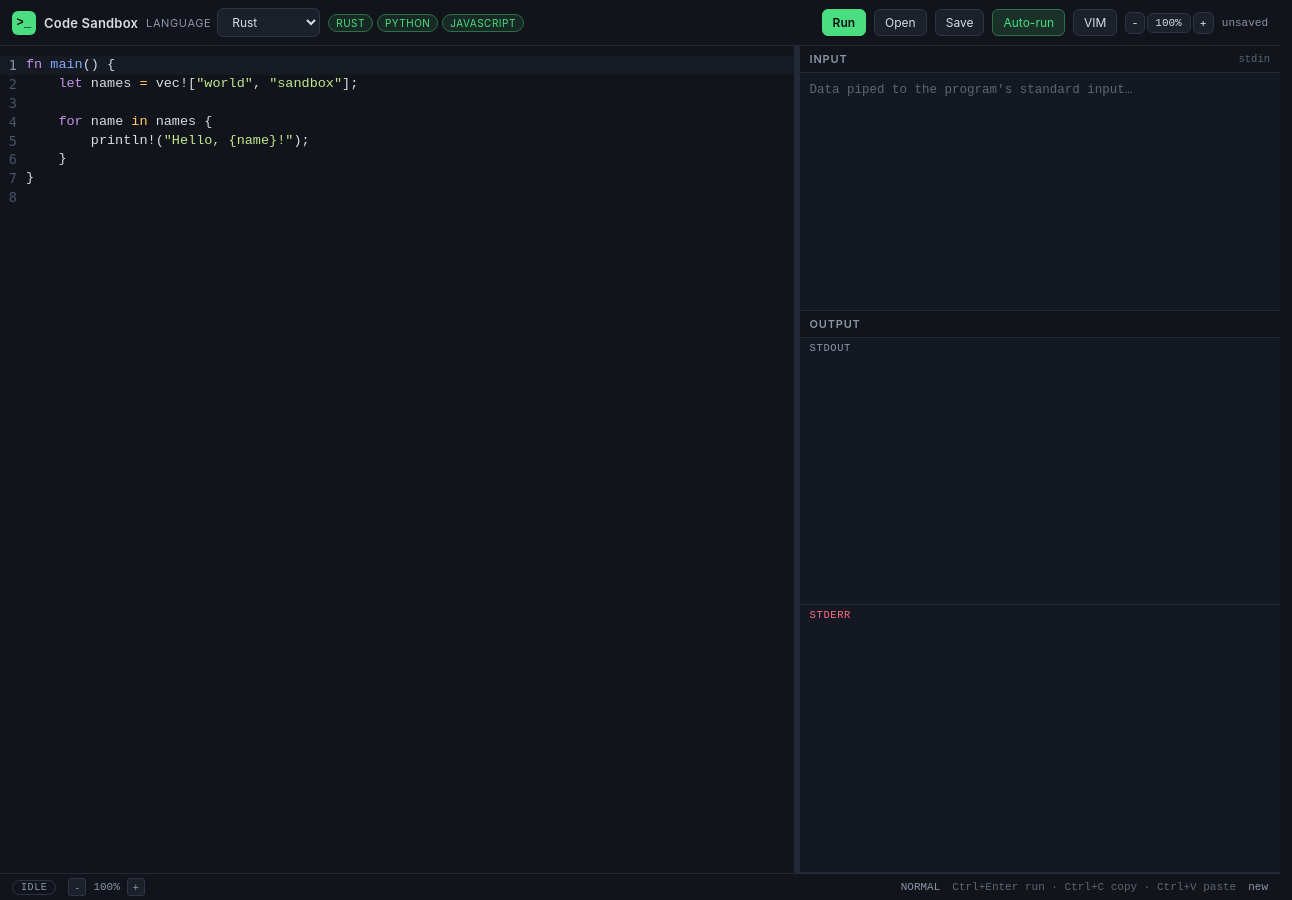
Test case: Code Sandbox › adjusts zoom via toolbar controls and keyboard shortcuts
Check: the button with test id "zoom-level" reads "100%", box [89, 881, 124, 893]
# Click zoom in button
Step 1. Click the button named "Zoom in" → (1203, 22), box [1192, 12, 1214, 34]
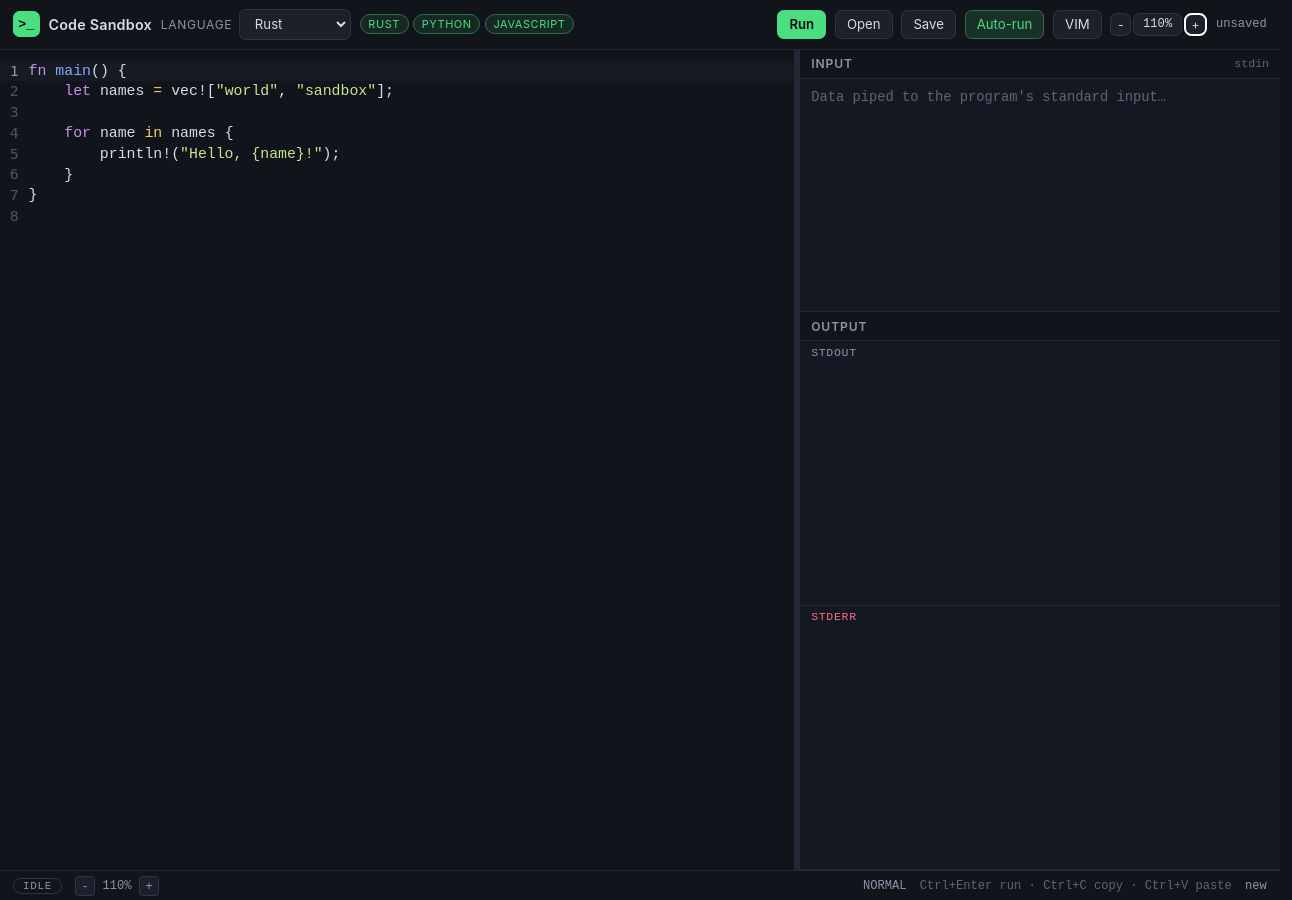
Check: the button with test id "zoom-level" reads "110%", box [98, 879, 136, 893]
# Keyboard shortcut zoom out (Ctrl+-)
Step 2. Type keys "{Control>}{-}{/Control}"
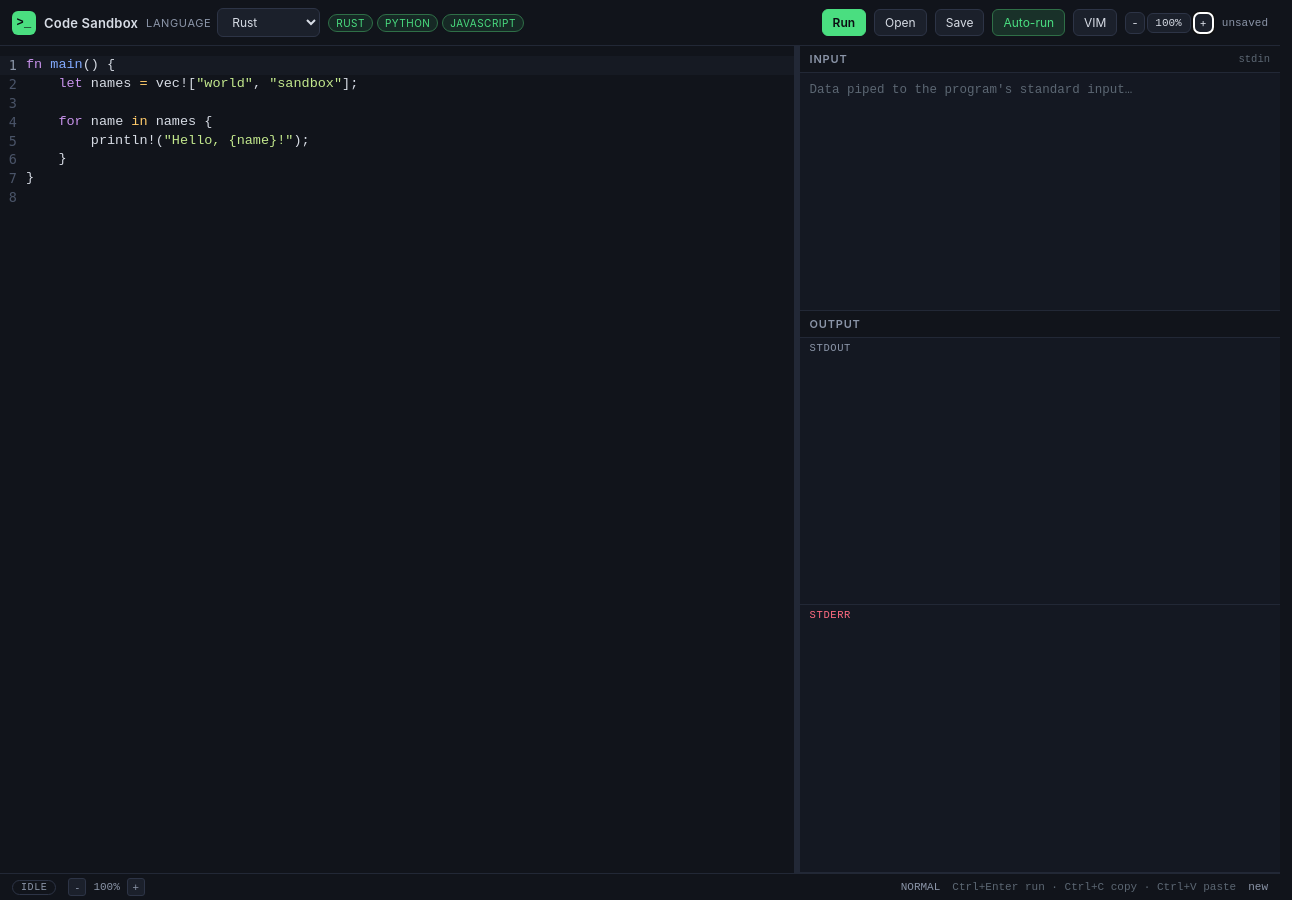
Check: the button with test id "zoom-level" reads "100%", box [89, 881, 124, 893]
Step 3. Type keys "{Control>}{=}{/Control}"
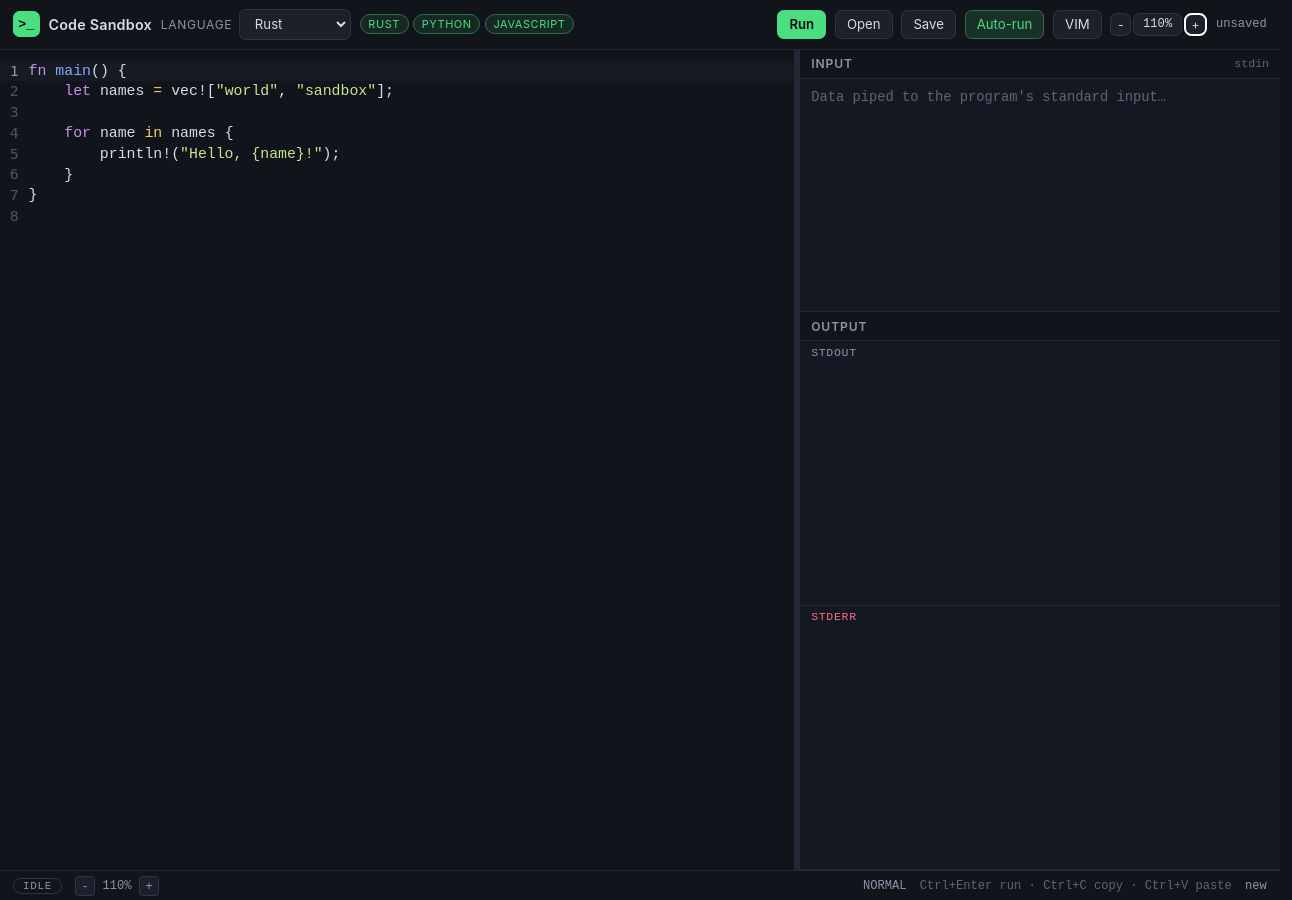
Check: the button with test id "zoom-level" reads "110%"
# Reset zoom via click
Step 4. Click the button with test id "zoom-level" → (117, 886), box [98, 879, 136, 893]
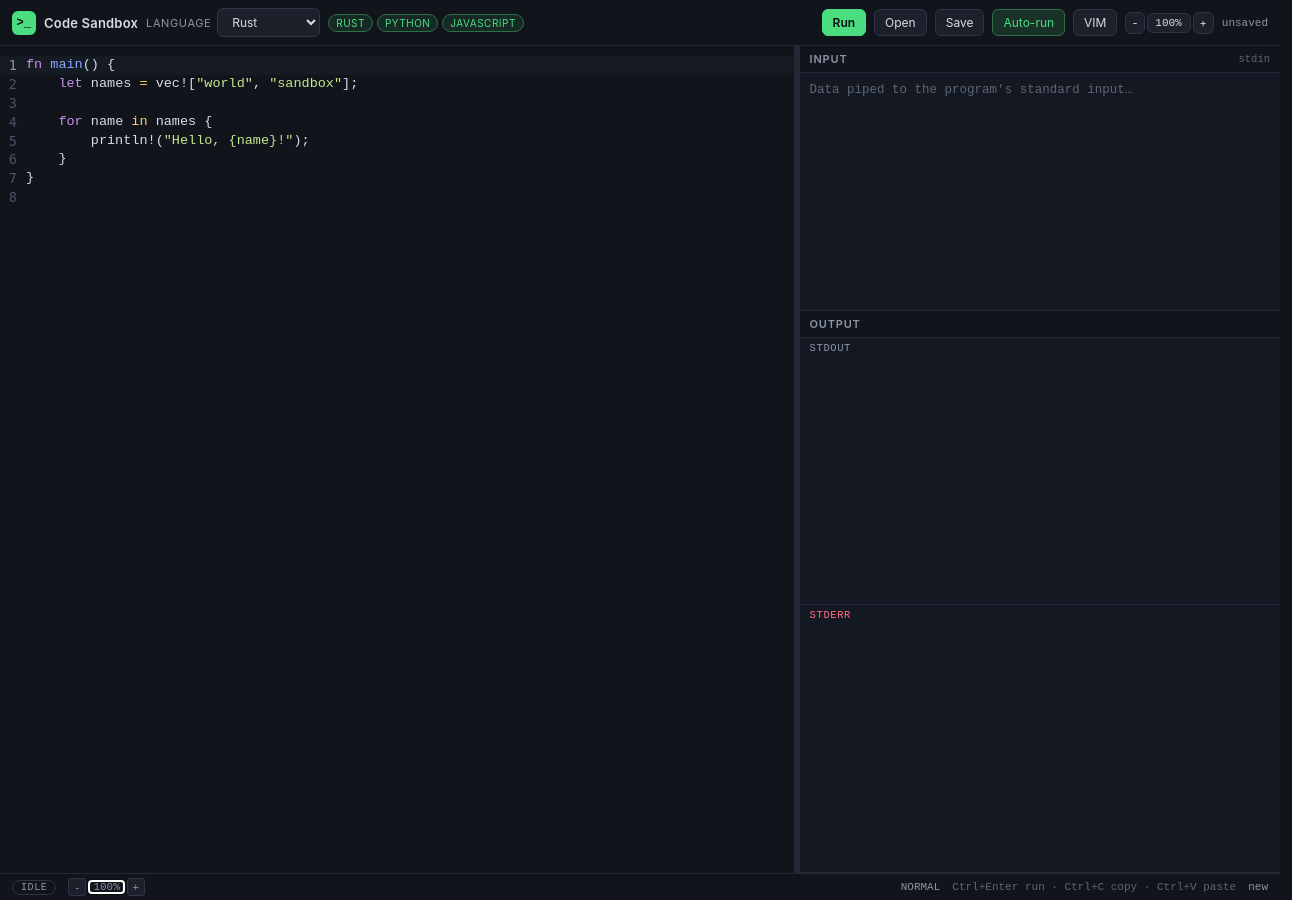
Check: the button with test id "zoom-level" reads "100%", box [89, 881, 124, 893]
# Keyboard shortcut reset (Ctrl+0)
Step 5. Type keys "{Control>}{=}{/Control}"
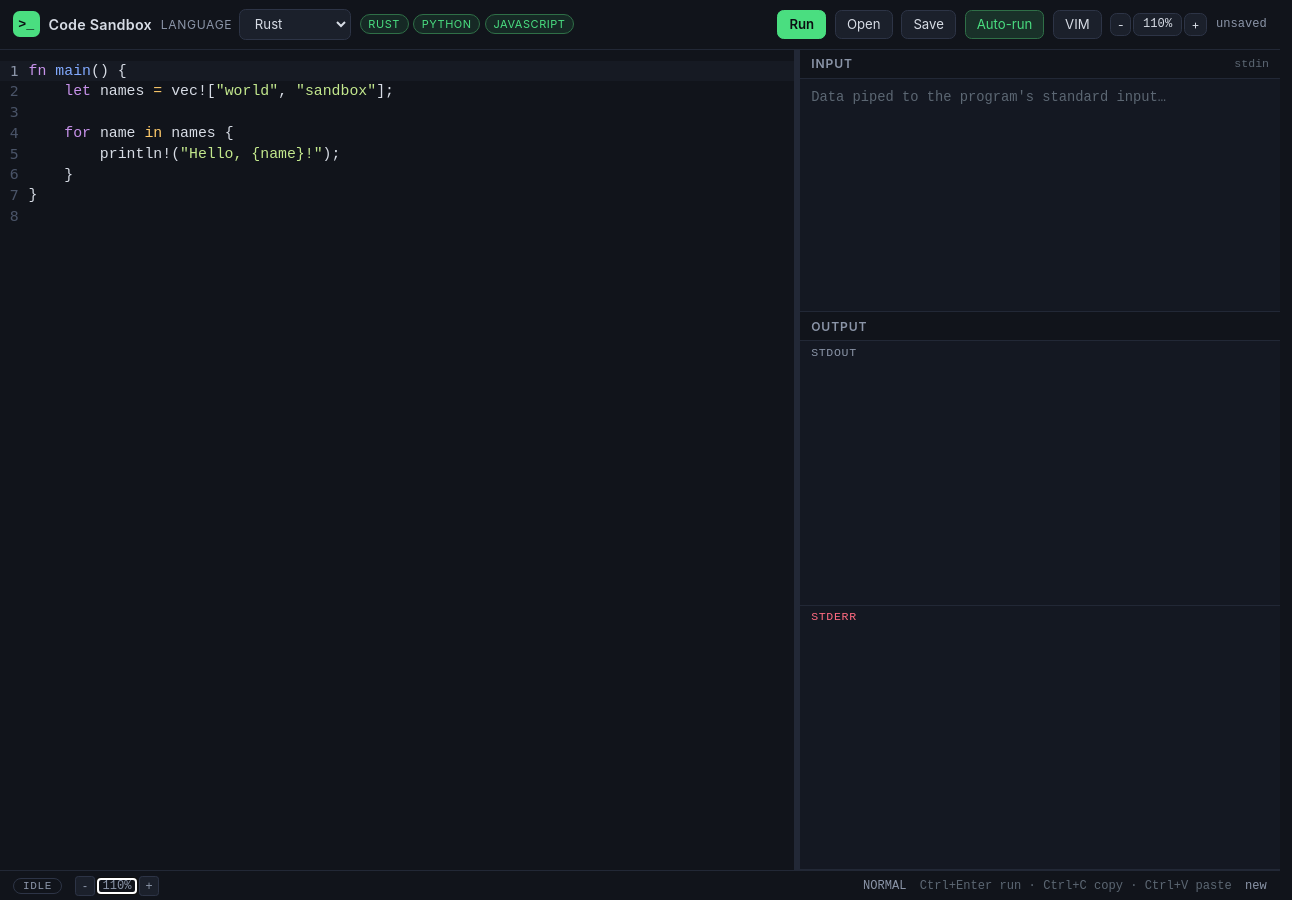
Check: the button with test id "zoom-level" reads "110%", box [98, 879, 136, 893]
Step 6. Type keys "{Control>}{0}{/Control}"
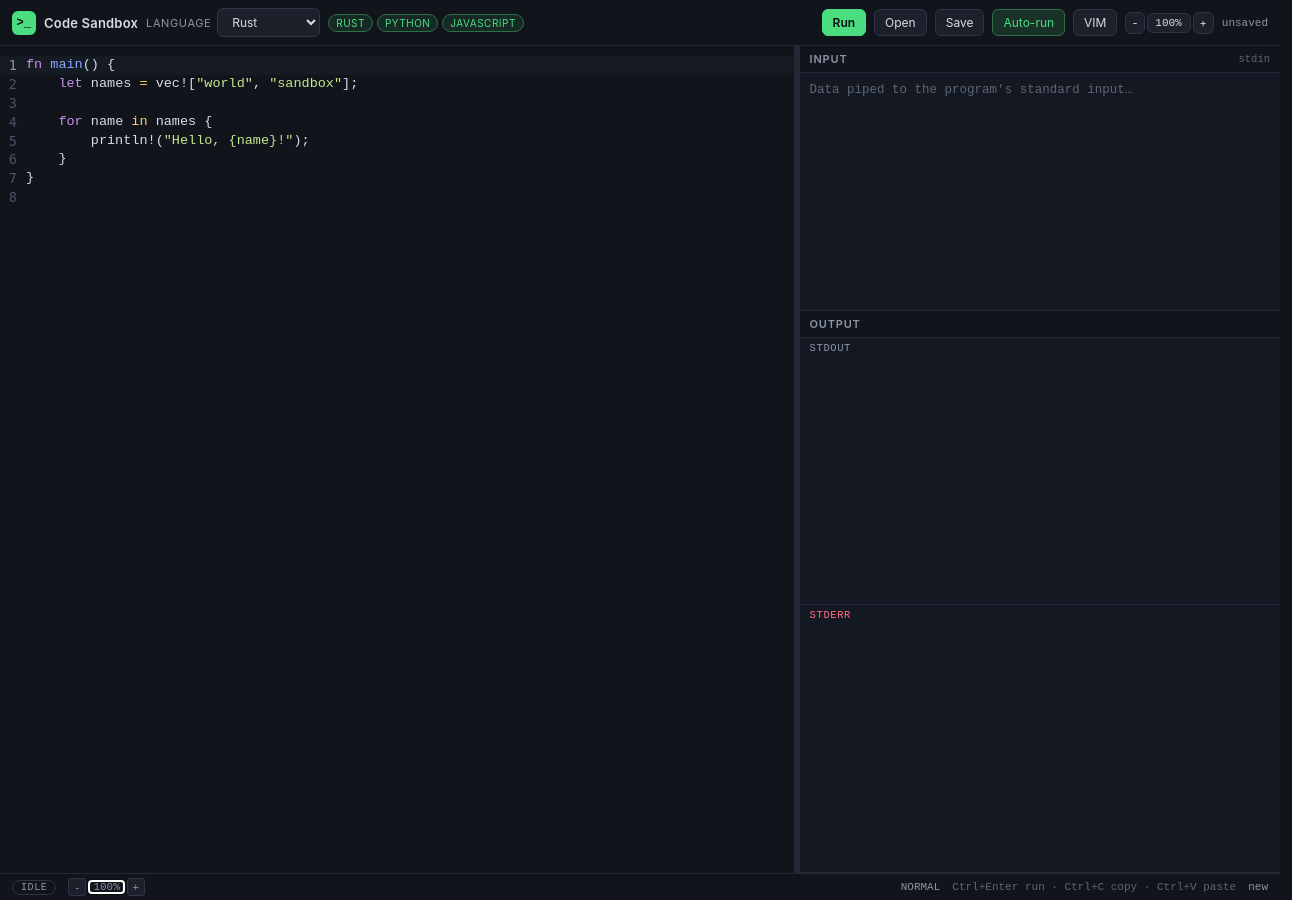
Check: the button with test id "zoom-level" reads "100%", box [89, 881, 124, 893]
